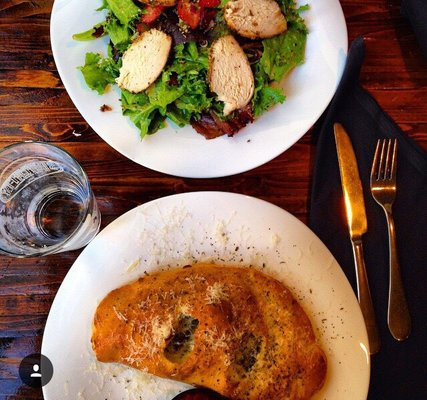burger: (370, 138, 411, 343), (369, 137, 400, 327)
curry: (251, 0, 309, 118), (256, 1, 310, 83)
pizza: (0, 141, 103, 259)
sandwich: (332, 122, 384, 354), (370, 138, 412, 343)
sushi: (0, 142, 102, 259)
